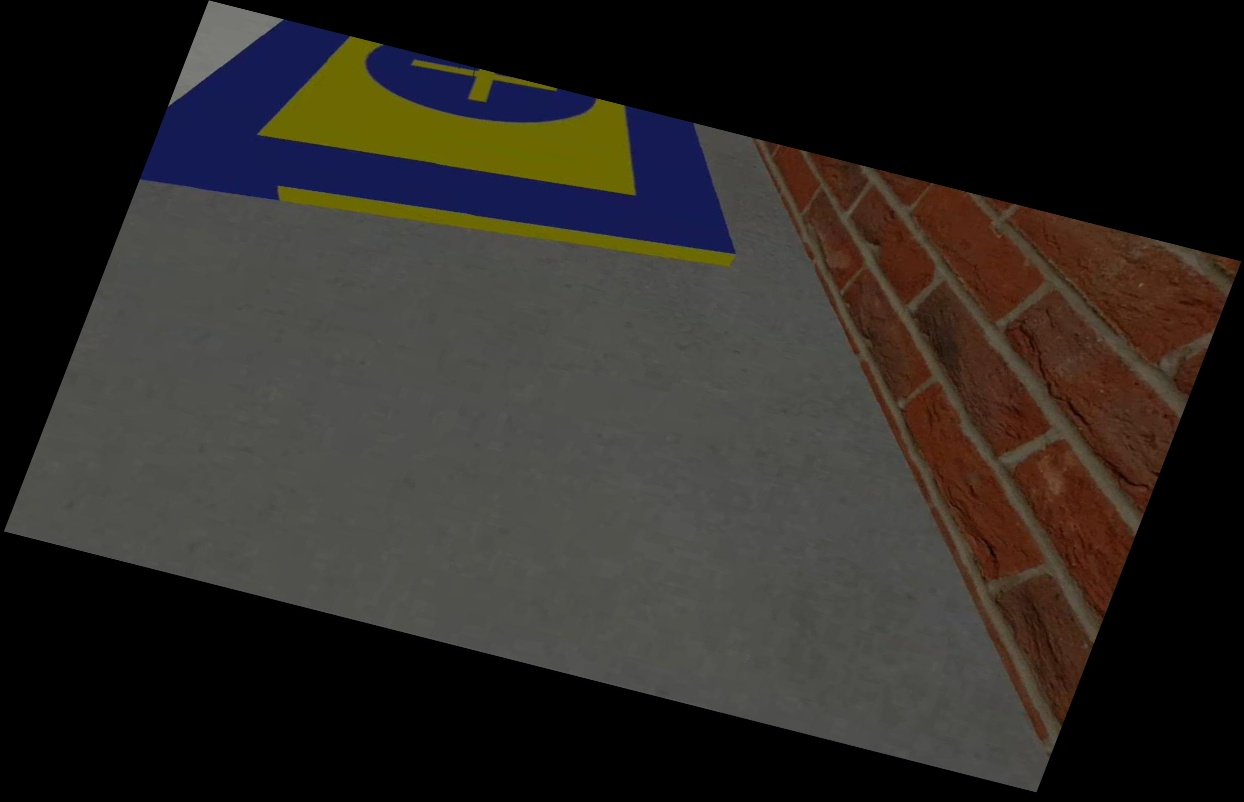large_base: (138, 0, 784, 328)
